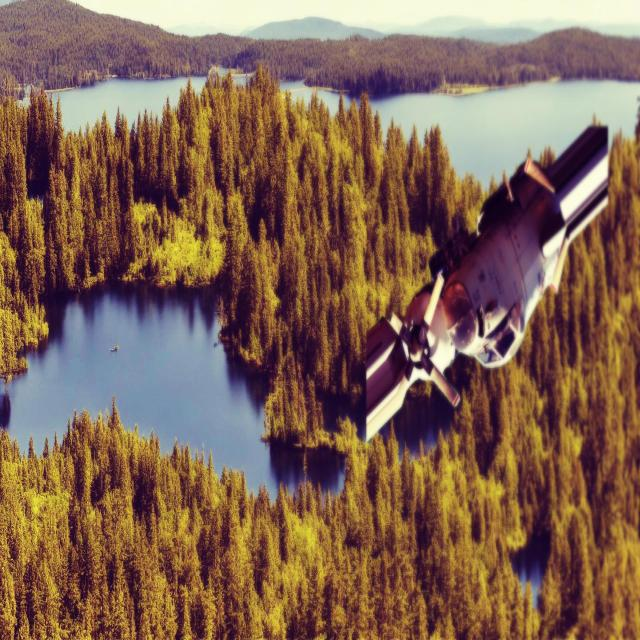airplane: (364, 120, 610, 443)
